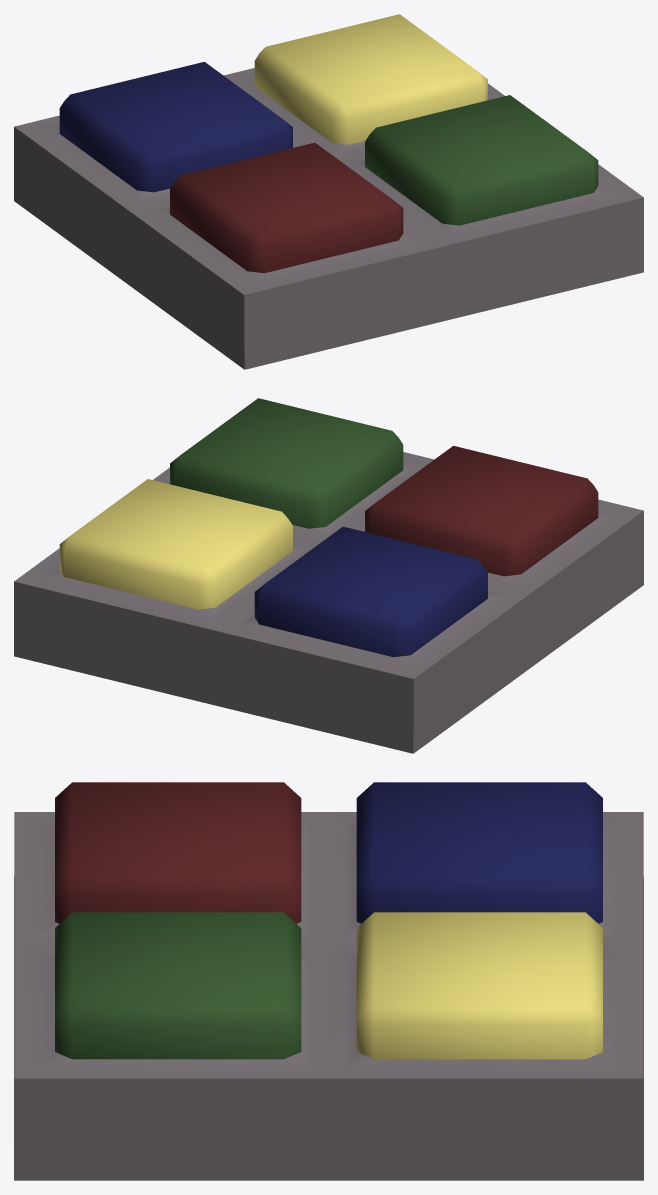
The model's file is simon_yellow.glb.
3 views of the same model, one above another, from view 1: azimuth 30°, elevation 25°; view 2: azimuth 150°, elevation 25°; view 3: azimuth 270°, elevation 25° (orthographic). The views are drawn at different scales.
Visible parts, largest first — view 1: Simon; view 2: Simon; view 3: Simon.
Boxes of the visible parts, <box> form: Simon: <box>14,14,643,369</box>; Simon: <box>14,398,643,753</box>; Simon: <box>14,782,643,1180</box>.
Size of the model in its own units: 0.7308 by 0.1987 by 0.7297.
